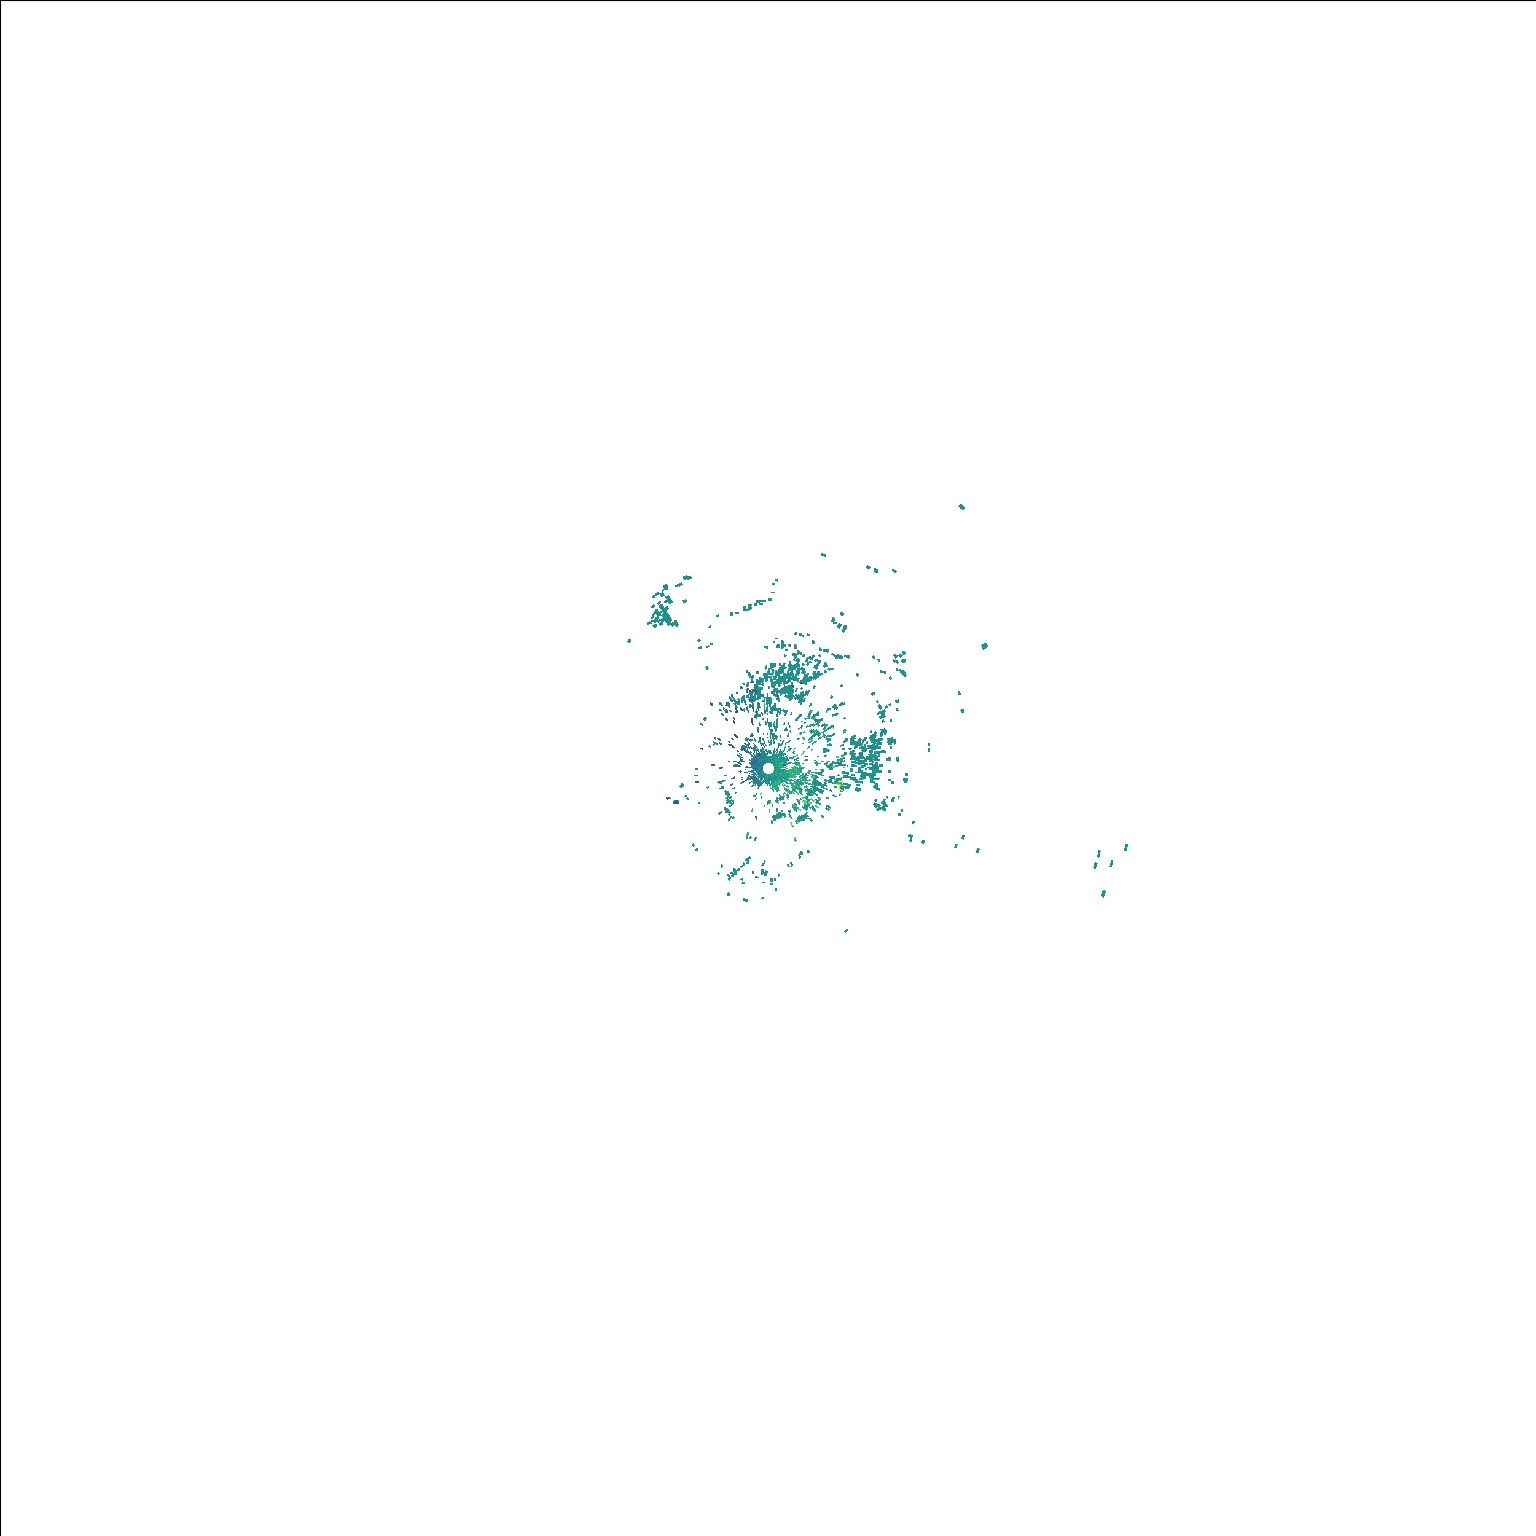fall: (664, 793, 681, 805)
